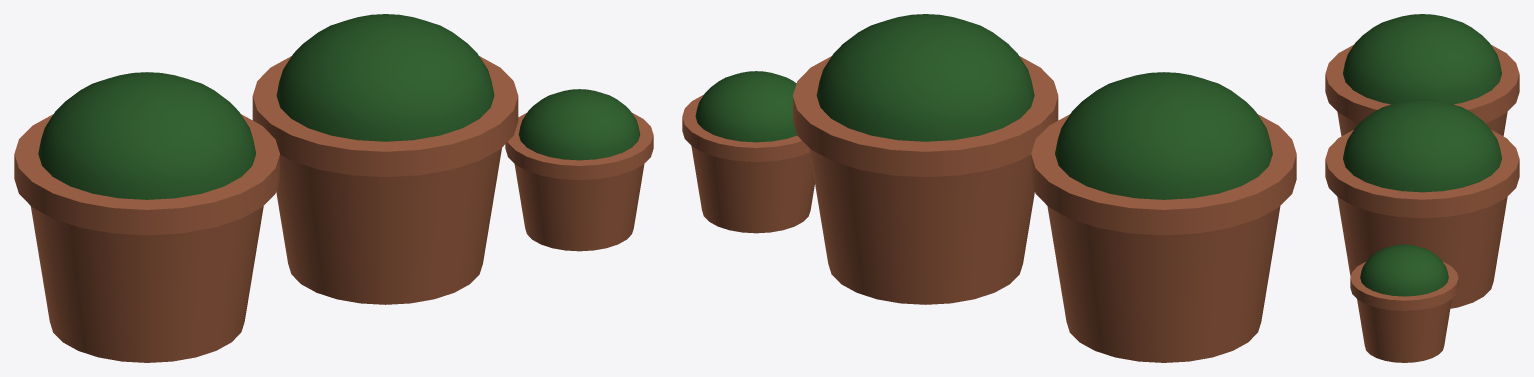
File: object_B1_Plants_002.glb
3 renders of one model, left to right at view 1: azimuth 30°, elevation 25°; view 2: azimuth 150°, elevation 25°; view 3: azimuth 270°, elevation 25°, orthographic. The views are drawn at different scales.
Parts seen in each view (by area): view 1: B1 Plants.002; view 2: B1 Plants.002; view 3: B1 Plants.002.
Boxes of the visible parts, x1,y1,x2,y2 form: B1 Plants.002: (14,14,653,362); B1 Plants.002: (682,14,1296,362); B1 Plants.002: (1325,14,1519,362).
Bounding box in the file's own units: 0.6941 × 0.2615 × 0.2665.
